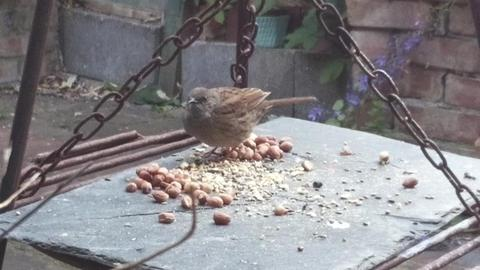dunnock: (182, 86, 318, 164)
